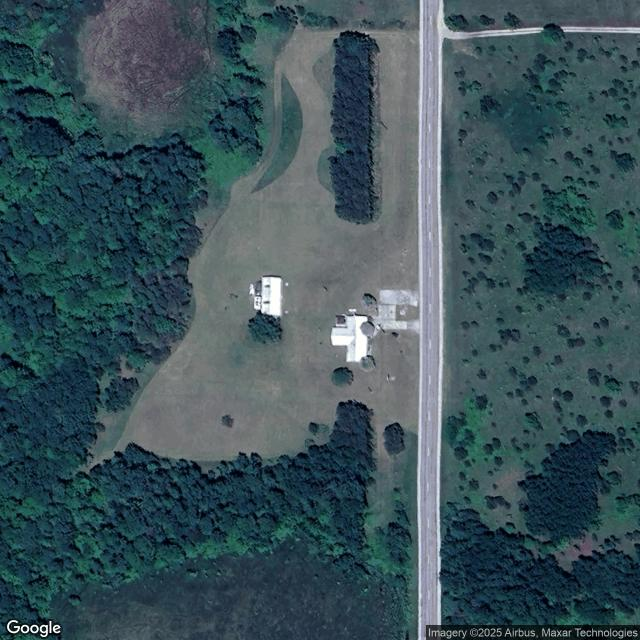Propane: (348, 309, 357, 312)
